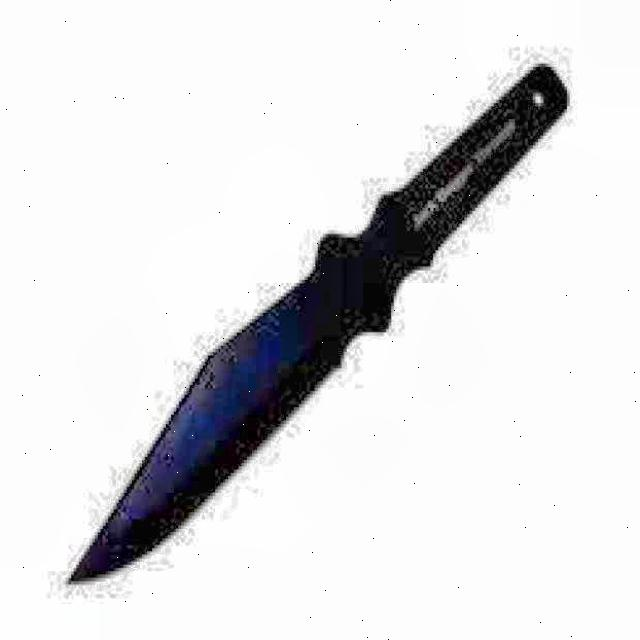knife: (62, 54, 574, 596)
